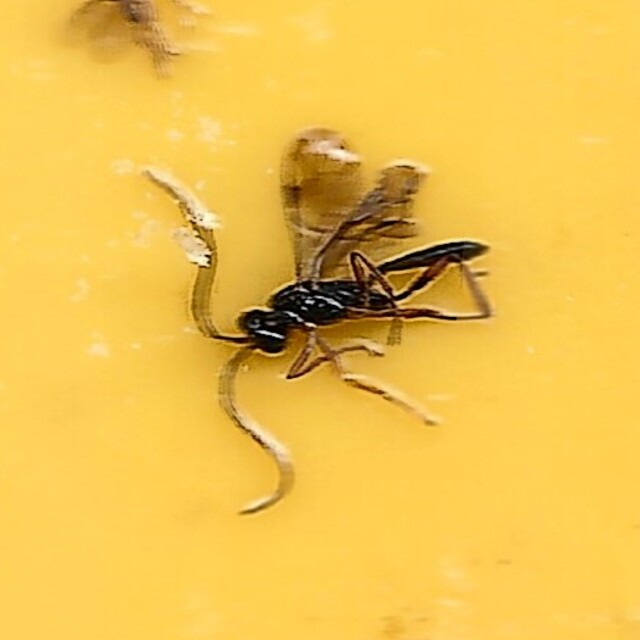Hymenoptera: (147, 122, 493, 518)
